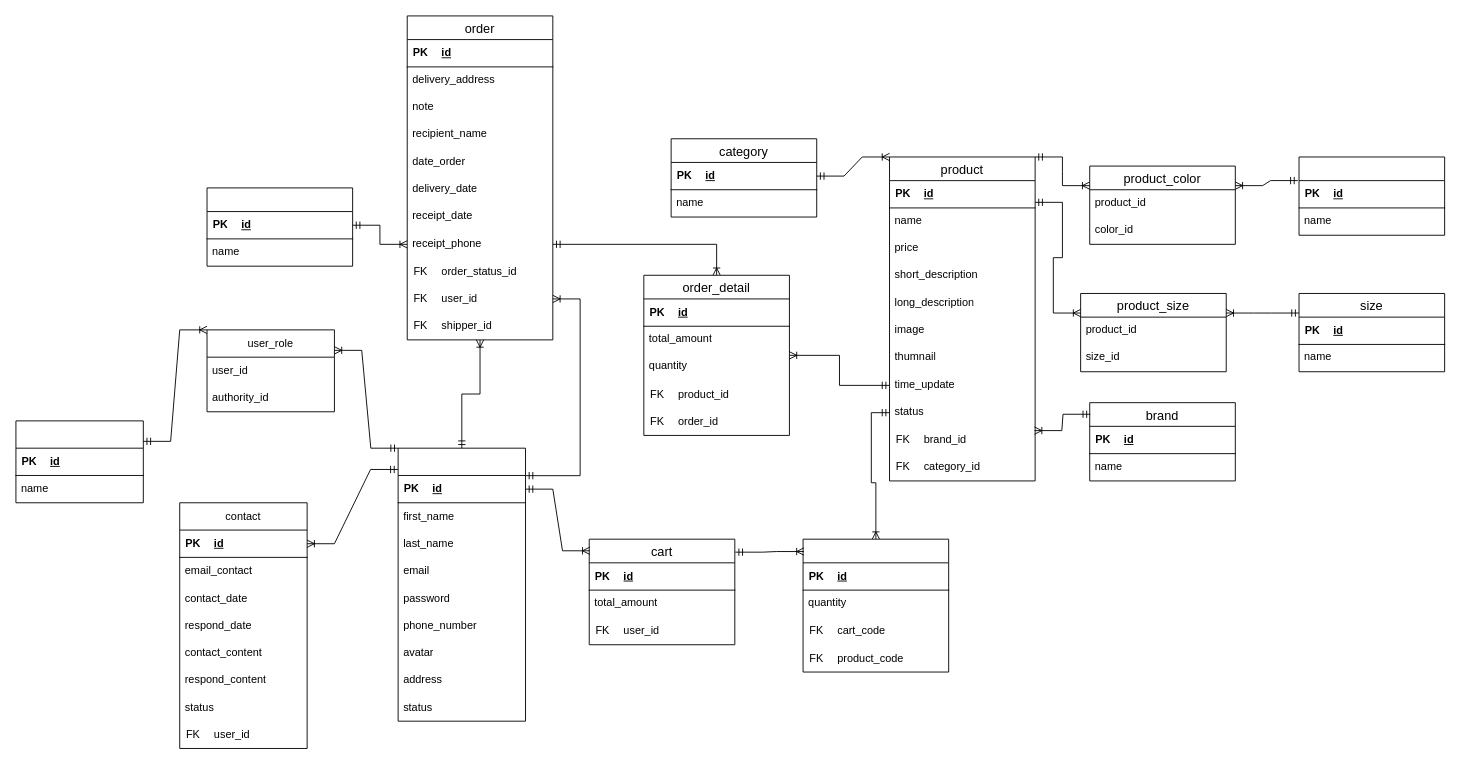
Image size: 1461x764. Some labels were removed from this diagram. The box of each missing label's shape, as (x1, y1, x2, y2) in pixels:
cart_detail: (802, 538, 949, 672)
color: (1298, 156, 1445, 235)
order_status: (206, 187, 353, 266)
role: (15, 420, 143, 503)
user: (397, 447, 526, 721)
